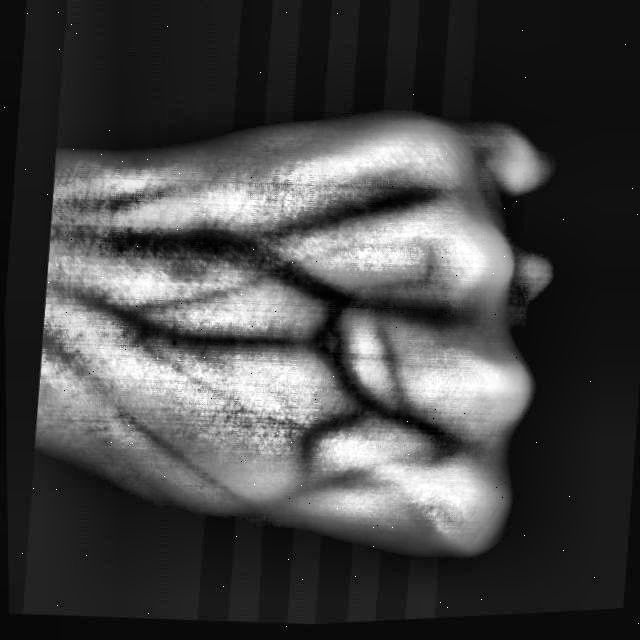Vein: (51, 220, 250, 265)
